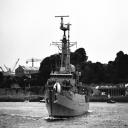Fragata: (45, 10, 91, 120)
